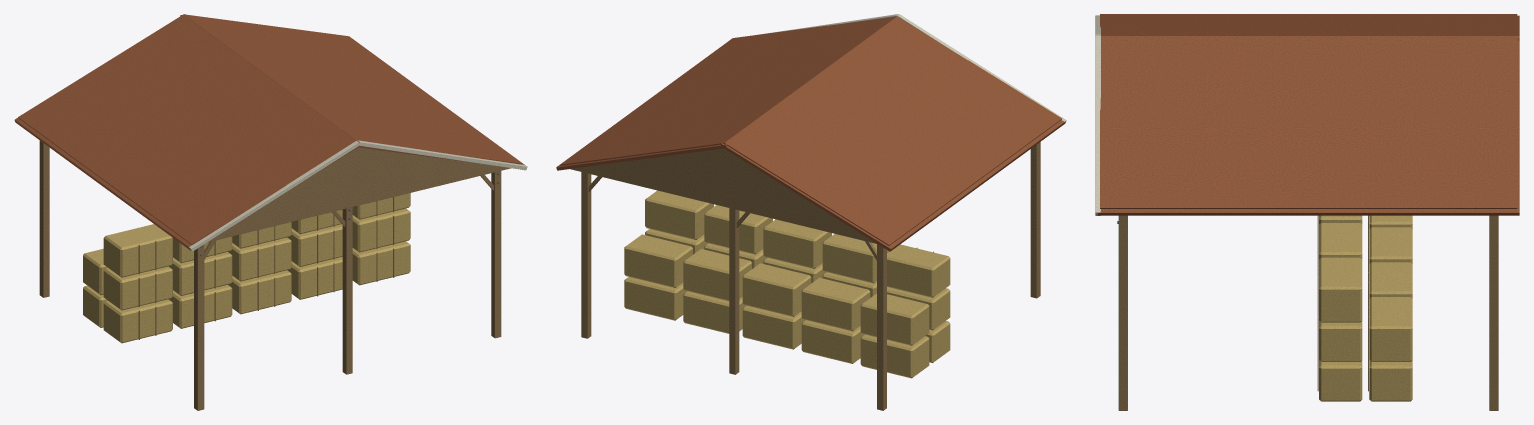
The model's file is HAYSHED2_lod0.glb.
3 views of the same model, side by side, from view 1: azimuth 30°, elevation 25°; view 2: azimuth 150°, elevation 25°; view 3: azimuth 270°, elevation 25° (orthographic). The views are drawn at different scales.
Visible parts, largest first — view 1: HAYSHED2_LOD0; view 2: HAYSHED2_LOD0; view 3: HAYSHED2_LOD0.
Part boxes in pixels (x1,y1,x2,y2): HAYSHED2_LOD0: [14, 14, 527, 410]; HAYSHED2_LOD0: [556, 14, 1066, 410]; HAYSHED2_LOD0: [1095, 14, 1519, 410].
Size of the model in its own units: 10.2 by 6.92 by 9.27.
5 materials, 5 textured.
